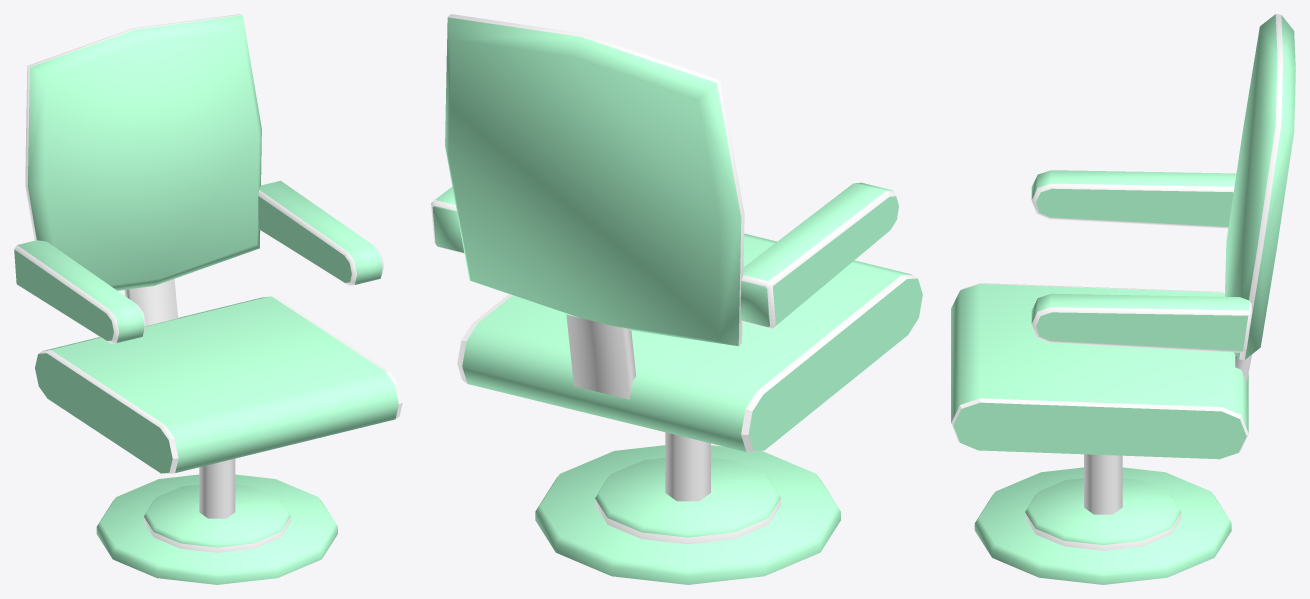
Rendered from Chair4.glb.
3 views of the same model, side by side, from view 1: azimuth 30°, elevation 25°; view 2: azimuth 150°, elevation 25°; view 3: azimuth 270°, elevation 25° (orthographic). The views are drawn at different scales.
Visible parts, largest first — view 1: Chair4; view 2: Chair4; view 3: Chair4.
Boxes of the visible parts, x1,y1,x2,y2 form: Chair4: (14, 14, 402, 584); Chair4: (431, 14, 922, 584); Chair4: (951, 14, 1295, 584).
Size of what is drawn, in the model's own units: 0.8823 by 1.39 by 0.9164.
2 materials, 2 textured.
